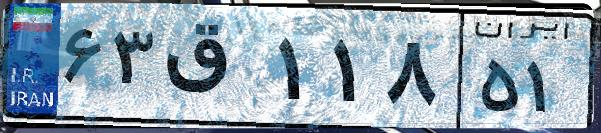1: (270, 28, 330, 110), (330, 28, 385, 110), (525, 38, 570, 115)
3: (110, 28, 158, 98)
5: (475, 38, 525, 113)
6: (57, 26, 110, 100)
8: (385, 28, 445, 110)
ق: (158, 20, 270, 120)
